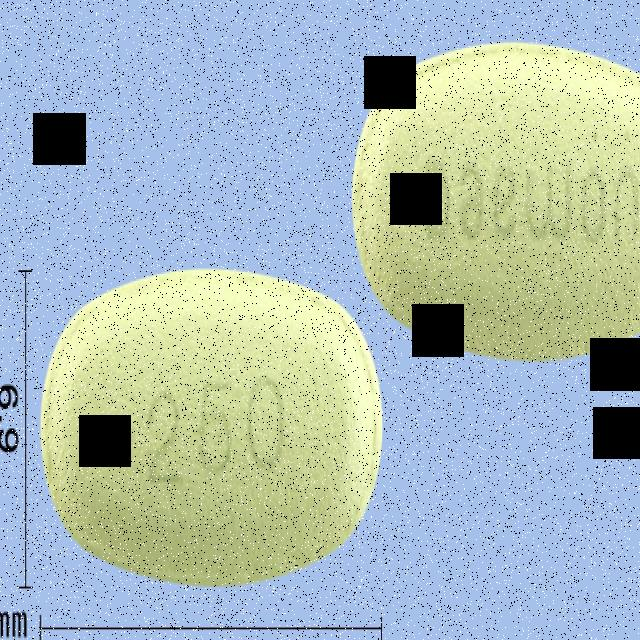Clasin: (38, 261, 384, 588), (349, 41, 640, 368)
